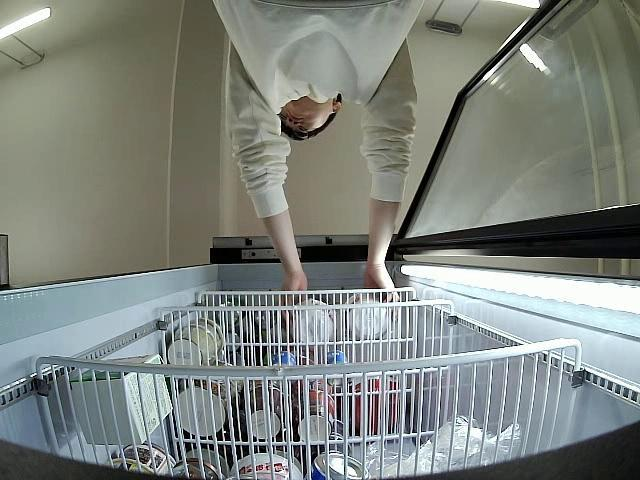09_yukGaeJang: (290, 298, 334, 346), (346, 292, 390, 337)
